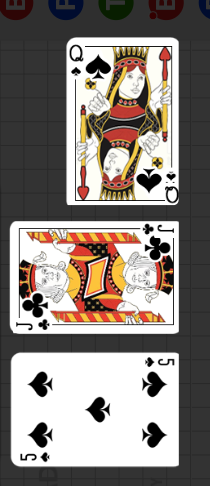5S: (19, 451, 53, 464)
9S: (68, 43, 84, 78)
JC: (141, 223, 175, 237)
